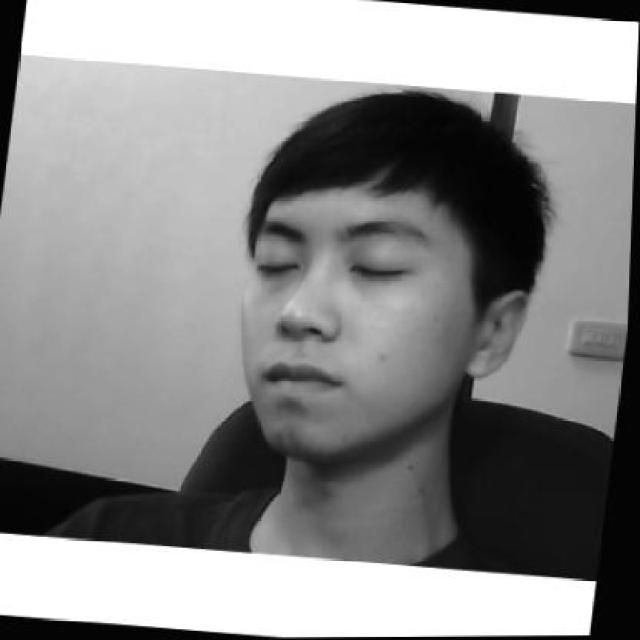inattentif: (220, 78, 554, 478)
